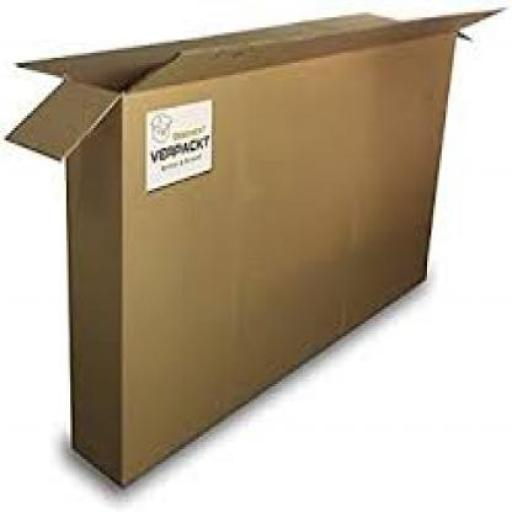cardboard: (2, 2, 500, 485)
